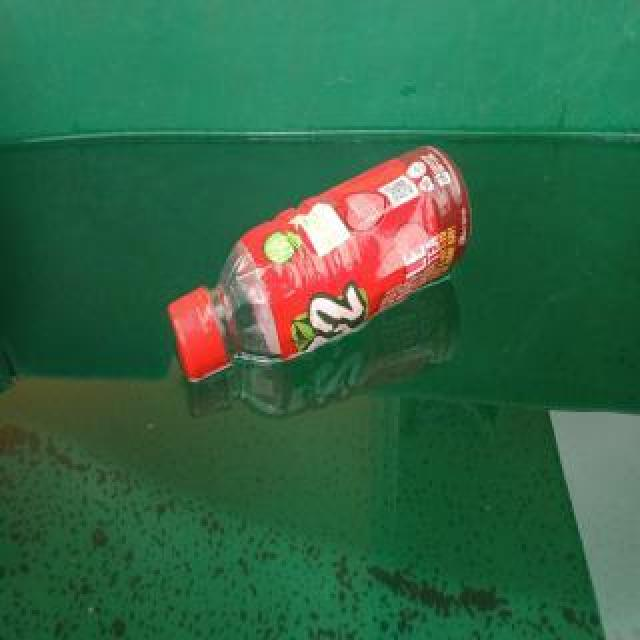bottle: (165, 145, 473, 383)
